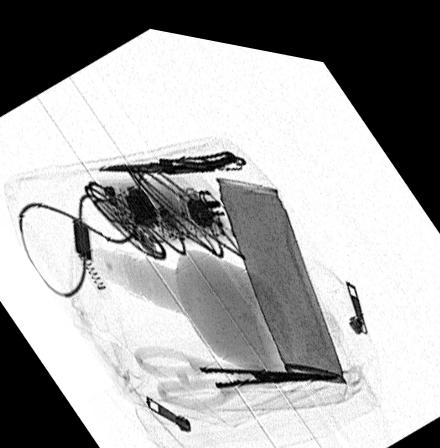Knife: (98, 143, 248, 168)
Scissors: (132, 340, 340, 406)
